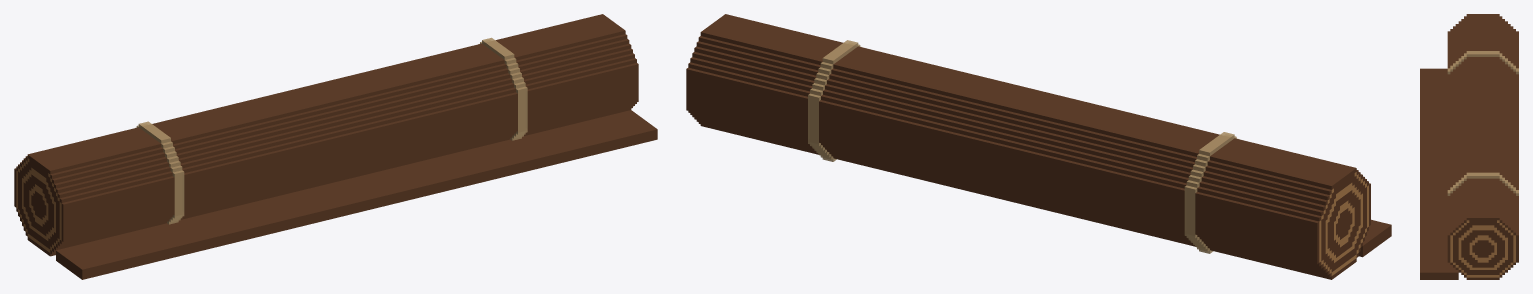
The model's file is leather_tarp.glb.
3 renders of one model, left to right at view 1: azimuth 30°, elevation 25°; view 2: azimuth 150°, elevation 25°; view 3: azimuth 270°, elevation 25°, orthographic. The views are drawn at different scales.
Parts seen in each view (by area): view 1: leather_tarp:compound; view 2: leather_tarp:compound; view 3: leather_tarp:compound.
Boxes of the visible parts, x1,y1,x2,y2 form: leather_tarp:compound: [14, 14, 657, 279]; leather_tarp:compound: [686, 14, 1391, 279]; leather_tarp:compound: [1420, 14, 1518, 279].
Bounding box in the file's own units: 0.704 × 0.108 × 0.144.
